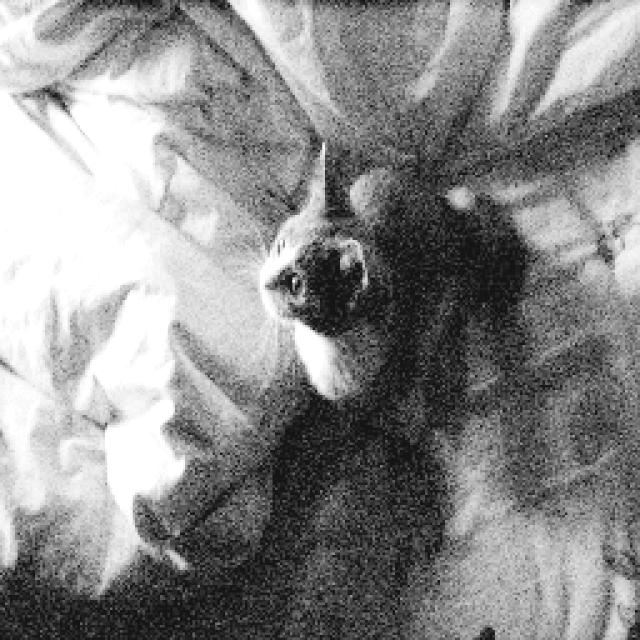cat: (215, 90, 499, 452)
